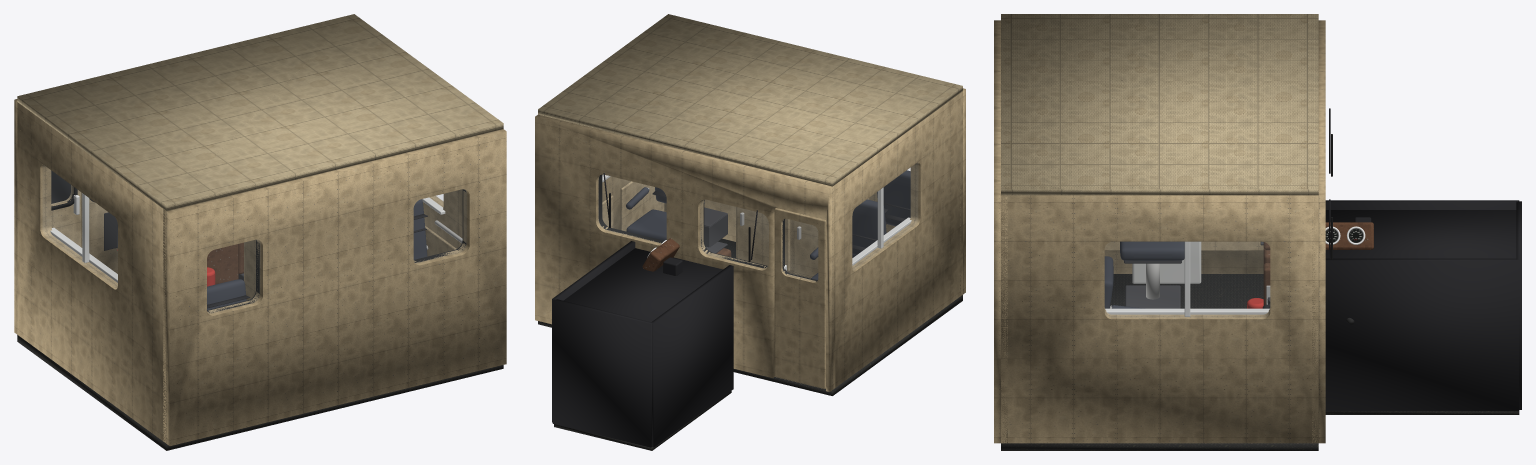
The model's file is gp38_factory.glb.
The picture shows the model from 3 angles, left to right: view 1: azimuth 30°, elevation 25°; view 2: azimuth 150°, elevation 25°; view 3: azimuth 270°, elevation 25°; orthographic projection. The views are drawn at different scales.
Parts seen in each view (by area): view 1: back_wall, ceiling, side-1, sglass-1, rglass0, rglass1, floor, front_wall, side1, door, st_body, cseat2_back (+7 smaller); view 2: ceiling, front_wall, side-1, nose_back, nose_wall, door, nose_top, sglass-1, wglass1, wglass0, dglass, lk_door.001 (+13 smaller); view 3: side1, ceiling, nose_wall.001, sglass1, nose_top, floor, front_wall, back_wall, nose_wall, side-1, c_heater, cseat_cush (+7 smaller).
Part boxes in pixels (x1=…): back_wall: x1=163, y1=129, x2=506, y2=445; ceiling: x1=17, y1=14, x2=503, y2=210; side-1: x1=17, y1=102, x2=166, y2=443; sglass-1: x1=43, y1=166, x2=117, y2=286; rglass0: x1=207, y1=240, x2=259, y2=312; rglass1: x1=414, y1=190, x2=465, y2=262; floor: x1=17, y1=335, x2=503, y2=450; front_wall: x1=14, y1=99, x2=117, y2=334; side1: x1=423, y1=189, x2=462, y2=248; door: x1=51, y1=185, x2=81, y2=246; st_body: x1=207, y1=244, x2=238, y2=284; cseat2_back: x1=207, y1=279, x2=246, y2=310; ceiling: x1=538, y1=14, x2=962, y2=186; front_wall: x1=535, y1=114, x2=835, y2=391; side-1: x1=832, y1=91, x2=962, y2=387; nose_back: x1=552, y1=299, x2=652, y2=447; nose_wall: x1=651, y1=265, x2=733, y2=447; door: x1=774, y1=208, x2=825, y2=388; nose_top: x1=563, y1=248, x2=722, y2=321; sglass-1: x1=853, y1=164, x2=917, y2=269; wglass1: x1=599, y1=175, x2=665, y2=242; wglass0: x1=701, y1=200, x2=768, y2=267; dglass: x1=783, y1=219, x2=817, y2=280; lk_door.001: x1=736, y1=207, x2=790, y2=271; side1: x1=1001, y1=195, x2=1318, y2=443; ceiling: x1=1001, y1=14, x2=1318, y2=195; nose_wall.001: x1=1325, y1=258, x2=1519, y2=411; sglass1: x1=1105, y1=242, x2=1269, y2=317; nose_top: x1=1325, y1=210, x2=1516, y2=258; floor: x1=1001, y1=274, x2=1318, y2=450; front_wall: x1=1312, y1=20, x2=1325, y2=443; back_wall: x1=994, y1=20, x2=1007, y2=443; nose_wall: x1=1325, y1=200, x2=1519, y2=209; side-1: x1=1104, y1=251, x2=1263, y2=273; c_heater: x1=1132, y1=241, x2=1201, y2=283; cseat_cush: x1=1120, y1=241, x2=1184, y2=260.
Bounding box in the file's own units: 3 × 2.27 × 3.82.
Materials: 30 (12 with a texture image).
